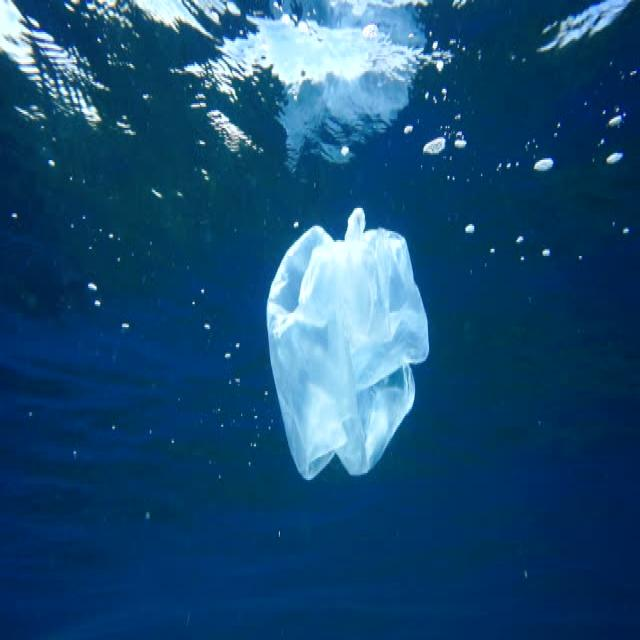garbage: (264, 218, 428, 484)
